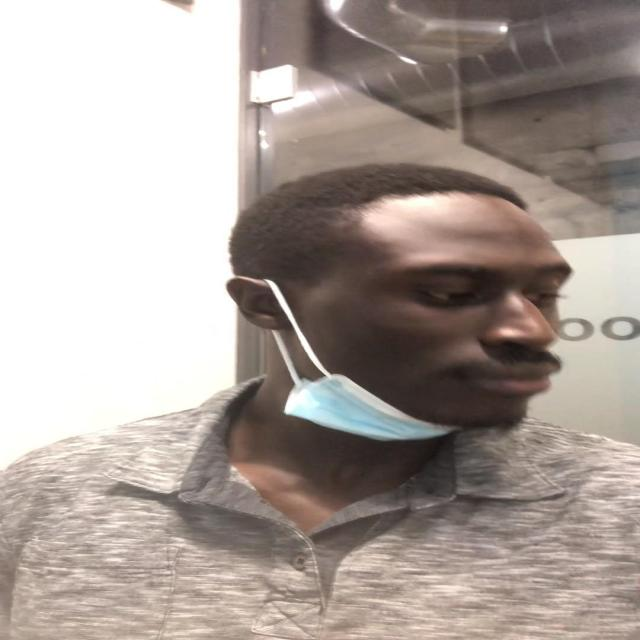face: (282, 202, 573, 422)
